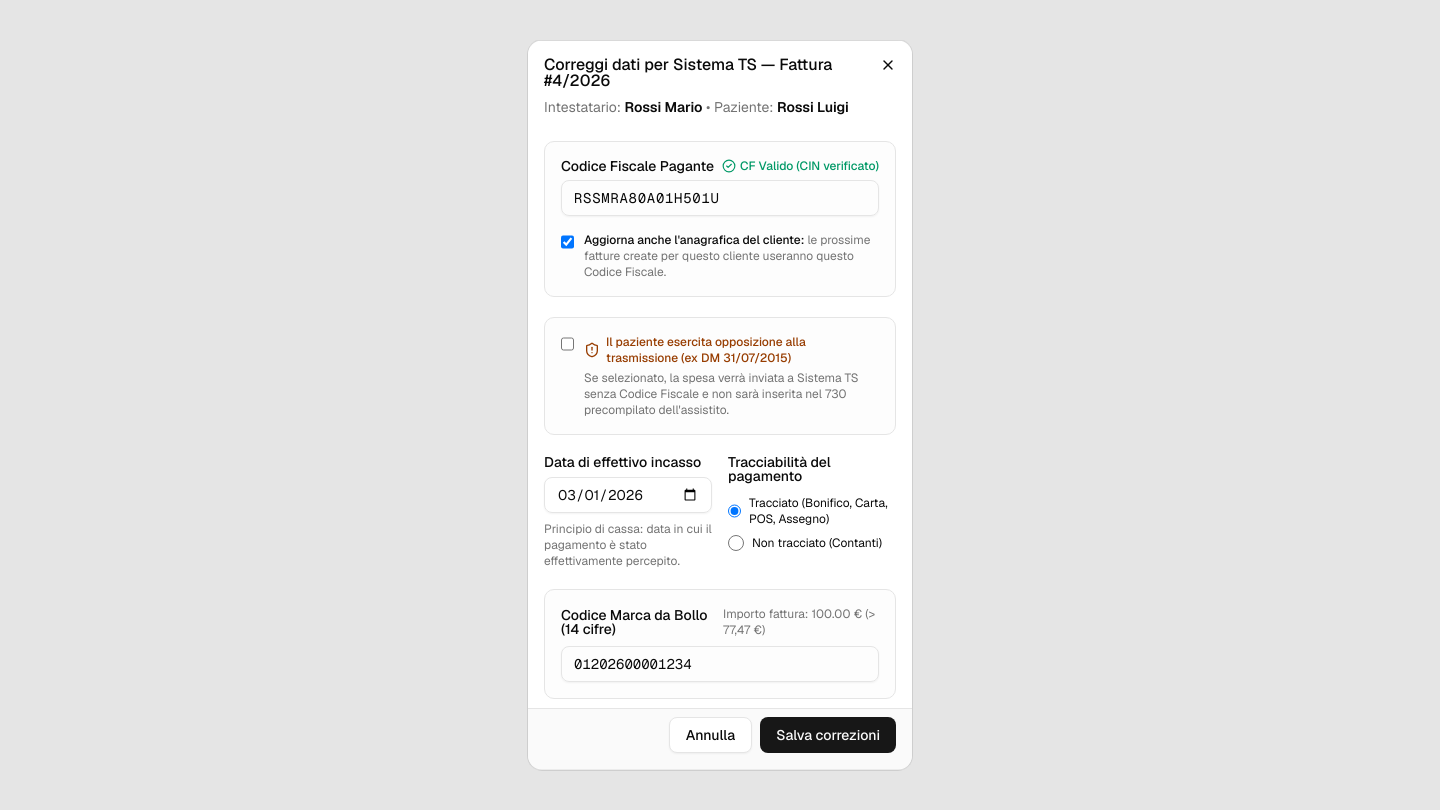
it: FixInvoiceTsDialog › mostra errore di validazione se la data di incasso viene lasciata vuota
Expected: the button "Salva correzioni" is enabled, [760, 718, 896, 754]
Note: Svuota la data
Clear the date field labelled "Data di effettivo incasso" at (628, 494), box [544, 476, 712, 512]
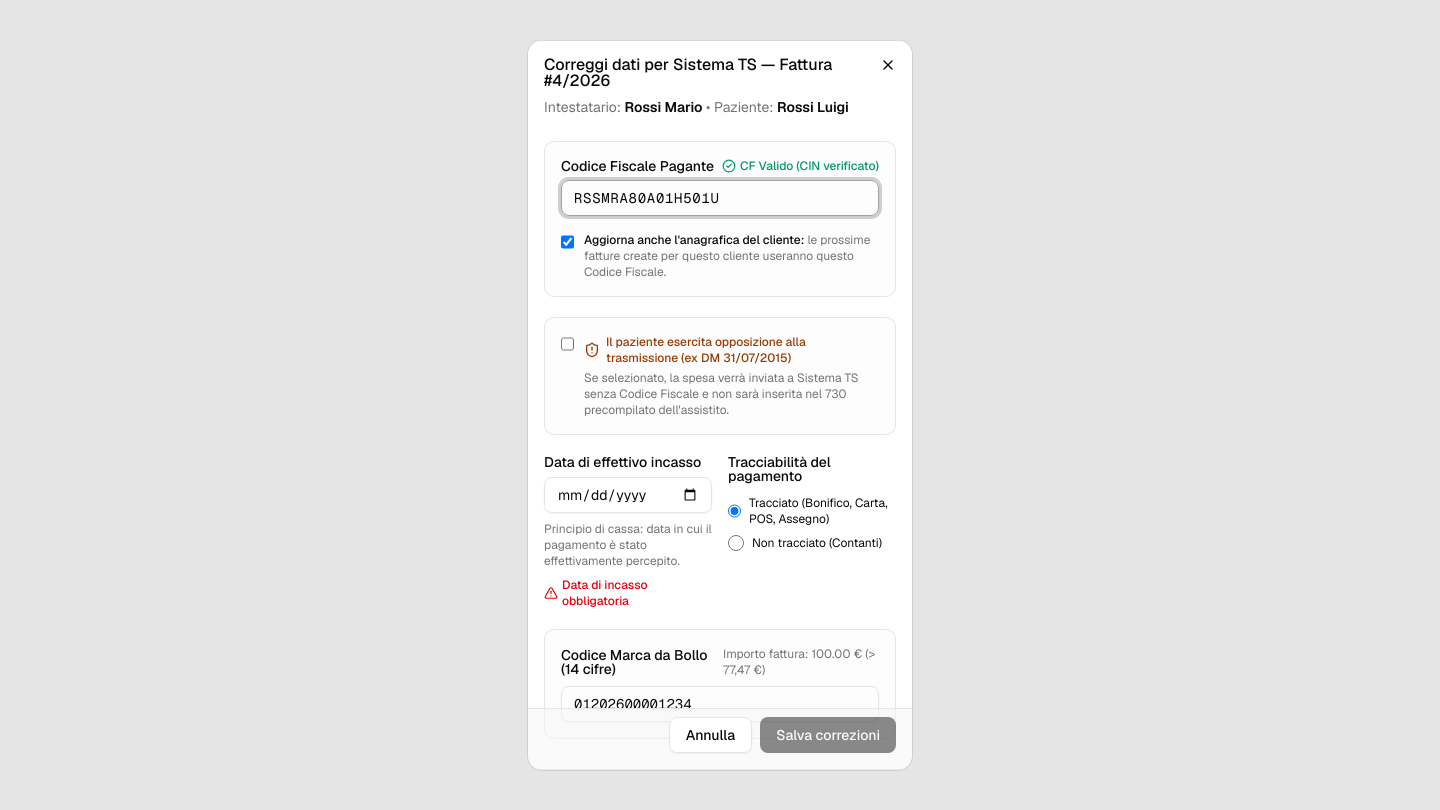
Expected: the text "Data di incasso obbligatoria" is shown, [544, 576, 648, 608]
Expected: the button "Salva correzioni" is disabled, [760, 718, 896, 754]
